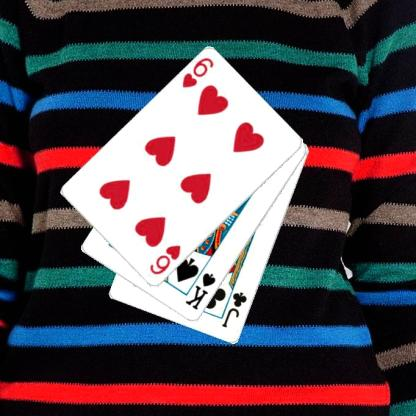6H: (180, 56, 216, 90), (147, 242, 182, 276)
JC: (219, 290, 248, 329)
KS: (183, 270, 217, 312)
